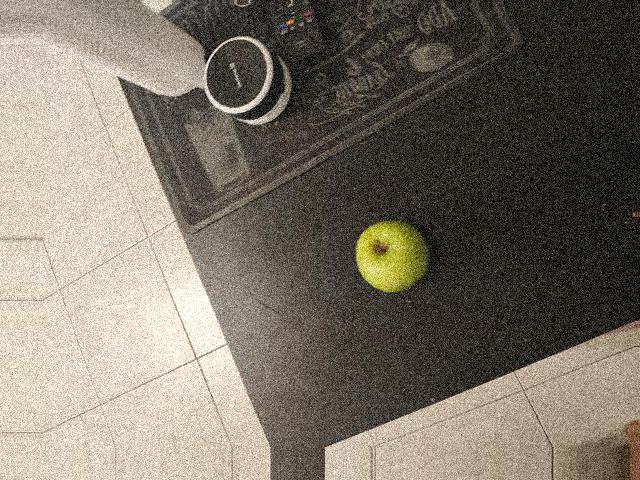apple: (193, 314, 306, 428)
